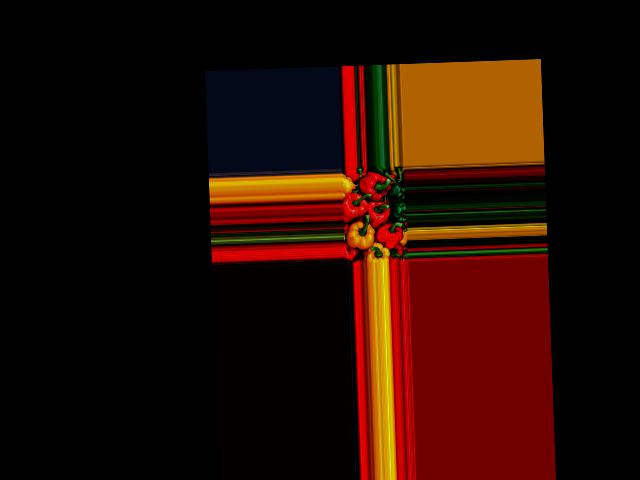bell_pepper: (341, 176, 354, 193)
